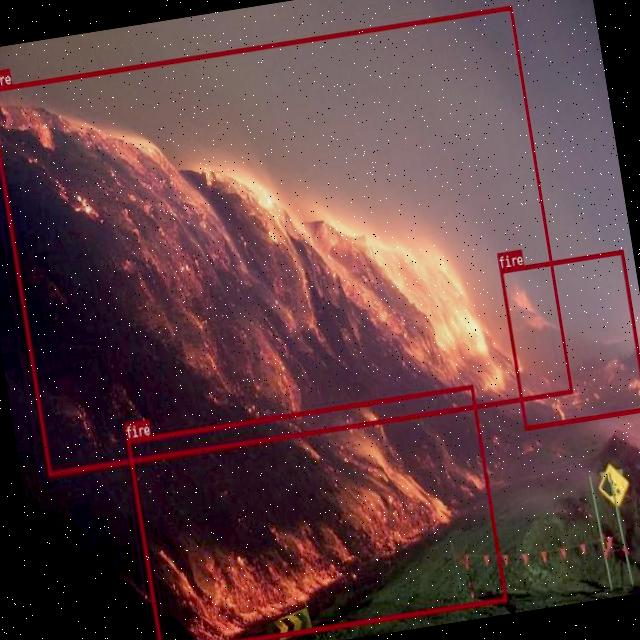fire: (0, 5, 573, 476), (125, 383, 506, 640), (498, 248, 640, 430)
